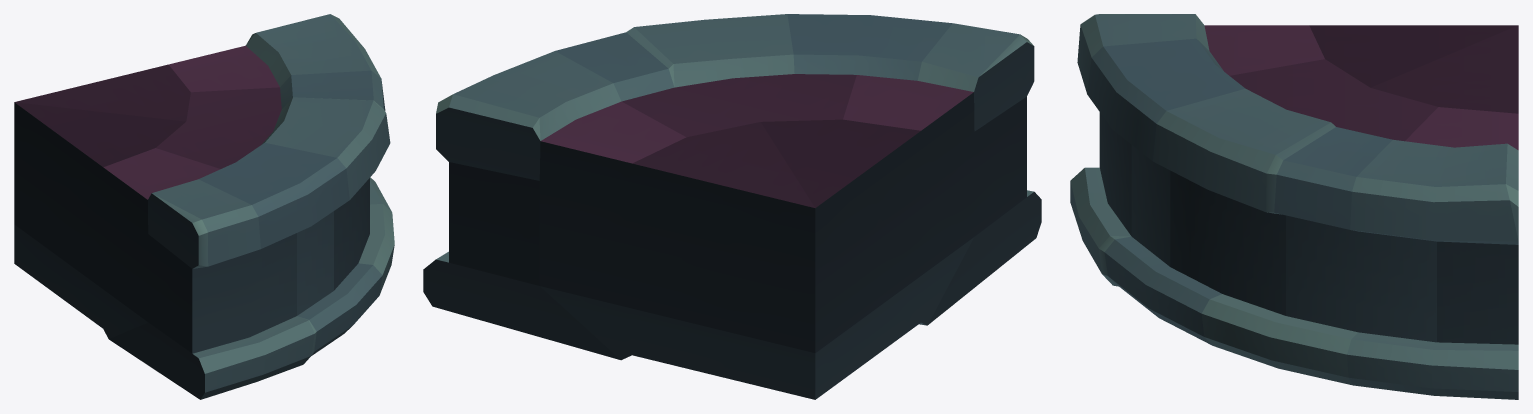
The model's file is stair_round_inside_fill.fbx.
The picture shows the model from 3 angles, left to right: view 1: azimuth 30°, elevation 25°; view 2: azimuth 150°, elevation 25°; view 3: azimuth 270°, elevation 25°; orthographic projection. The views are drawn at different scales.
Visible parts, largest first — view 1: stair_round_inside_fill; view 2: stair_round_inside_fill; view 3: stair_round_inside_fill.
Boxes of the visible parts, box(x1,y1,x2,y2) form: stair_round_inside_fill: box(14, 14, 394, 399); stair_round_inside_fill: box(423, 14, 1041, 399); stair_round_inside_fill: box(1070, 14, 1518, 399).
Size of the model in its own units: 214 by 114 by 214.
